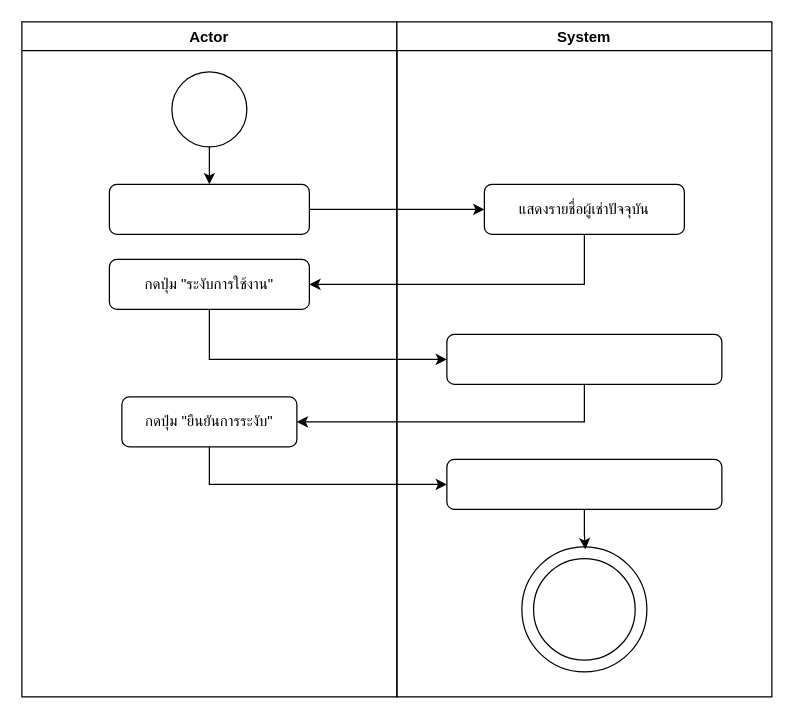
Image size: 794x719. Some labels were removed from this diagram. Each missing label, with the centre of its shape:
ขึ้นแสดงปุ่ม "ยืนยันระงับ" และ "ยกเลิก": pixel 584 358
เปลี่ยนสถานะห้องเป็นว่างและระงับบัญชี: pixel 584 483
เลือกเมนู "จัดการผู้ใช้งาน": pixel 208 208
